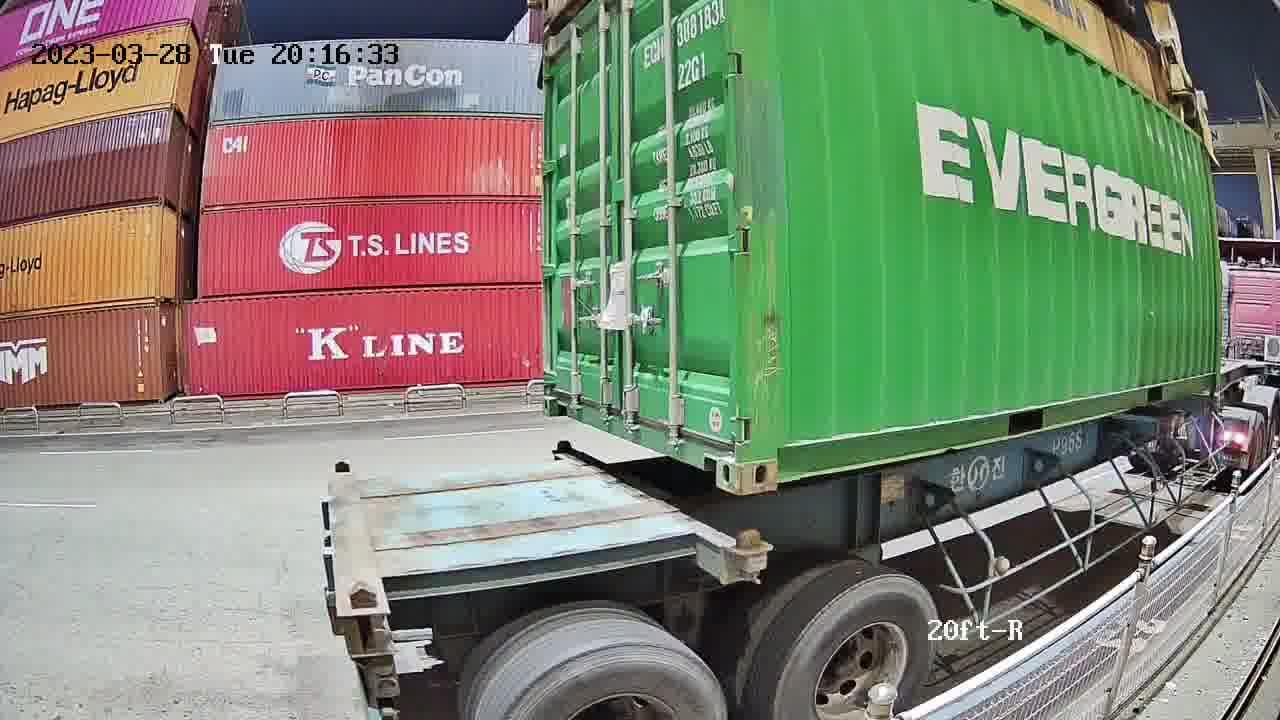Chassis: (549, 449, 775, 584)
Cone: (734, 530, 767, 584), (552, 438, 572, 453)
Hole_L: (738, 417, 813, 494), (542, 371, 579, 422)
Hole_R: (686, 412, 741, 495)
Tire: (773, 579, 937, 713), (499, 640, 727, 716)
